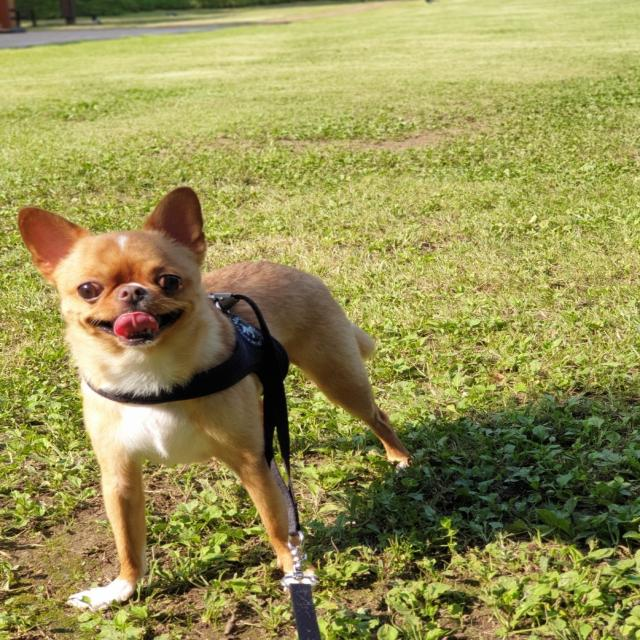dog-chihuahua: (16, 186, 216, 350)
